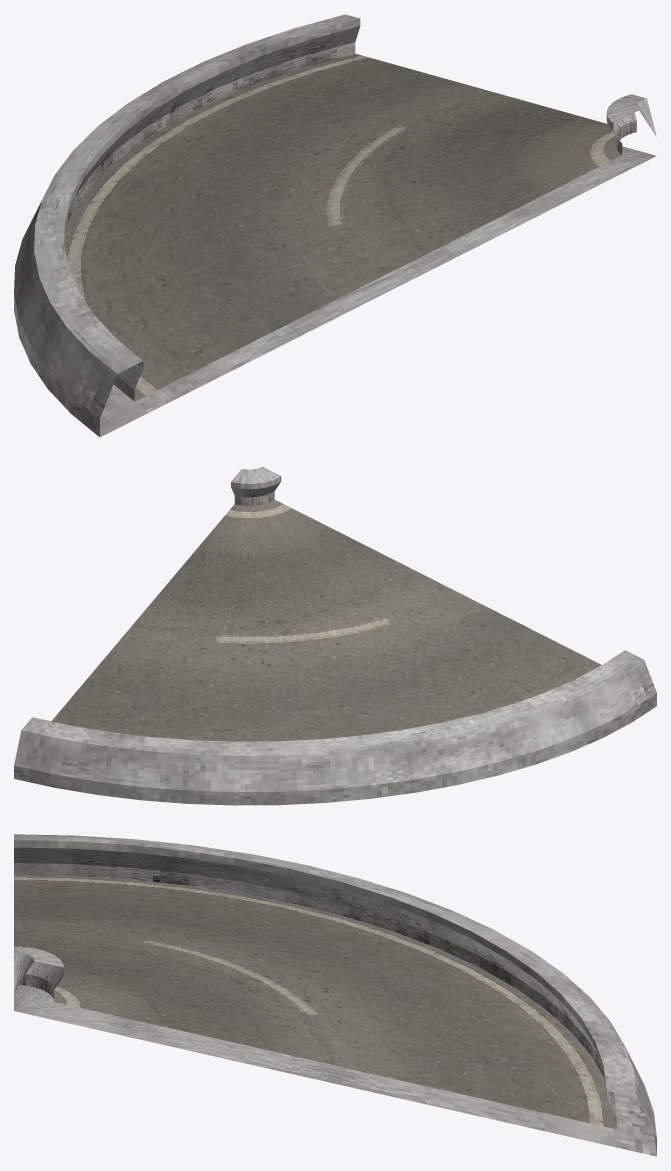
File: road-Turn-HalfBankedLeft-HalfBankedLeft-Even-Right-Size1.glb
3 views of the same model, one above another, from view 1: azimuth 30°, elevation 25°; view 2: azimuth 150°, elevation 25°; view 3: azimuth 270°, elevation 25° (orthographic). The views are drawn at different scales.
Visible parts, largest first — view 1: road-Turn-HalfBankedLeft-HalfBankedLeft-Even-Right-Size1; view 2: road-Turn-HalfBankedLeft-HalfBankedLeft-Even-Right-Size1; view 3: road-Turn-HalfBankedLeft-HalfBankedLeft-Even-Right-Size1.
Boxes of the visible parts, left/top/right/bottom form: road-Turn-HalfBankedLeft-HalfBankedLeft-Even-Right-Size1: left=14, top=14, right=656, bottom=437; road-Turn-HalfBankedLeft-HalfBankedLeft-Even-Right-Size1: left=14, top=466, right=656, bottom=805; road-Turn-HalfBankedLeft-HalfBankedLeft-Even-Right-Size1: left=14, top=834, right=656, bottom=1156.
Size of the model in its own units: 1 by 0.3359 by 1.
Materials: 2 (2 with a texture image).
